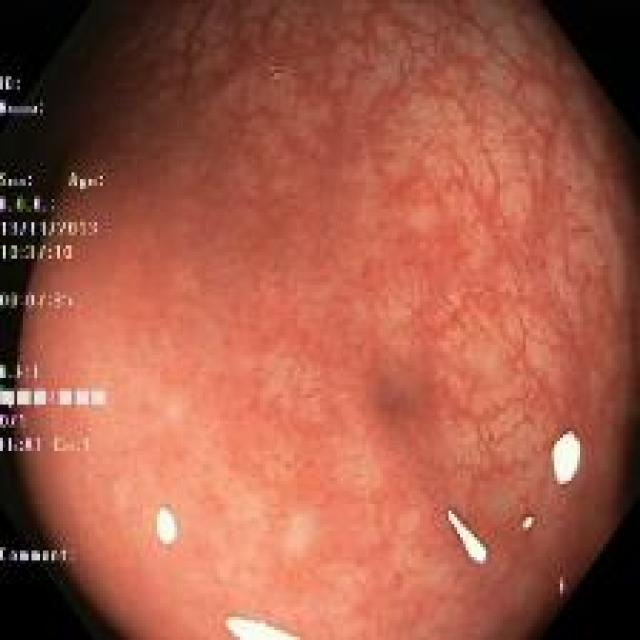ulcerative-colitis-grade-1: (143, 13, 626, 545)
